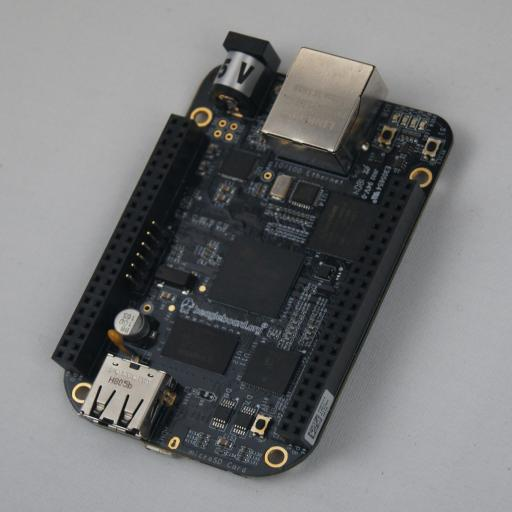Beaglebone Black: (51, 31, 454, 479)
